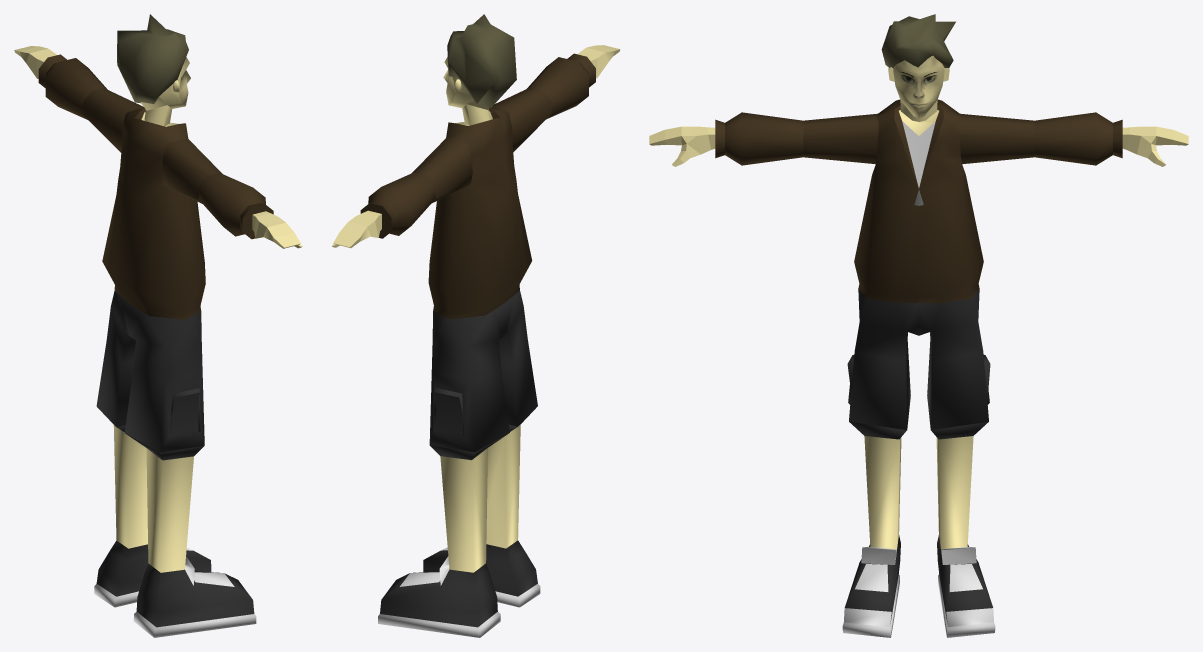
File: Vitya.fbx
The picture shows the model from 3 angles, left to right: view 1: azimuth 30°, elevation 25°; view 2: azimuth 150°, elevation 25°; view 3: azimuth 270°, elevation 25°; orthographic projection.
Visible parts, largest first — view 1: Torso.004; view 2: Torso.004; view 3: Torso.004.
Part boxes in pixels (x1,y1,x2,y2): Torso.004: [14, 14, 302, 637]; Torso.004: [332, 14, 620, 637]; Torso.004: [649, 14, 1188, 637].
Bounding box in the file's own units: 30.27 × 158 × 131.
Materials: 7 (1 with a texture image).
